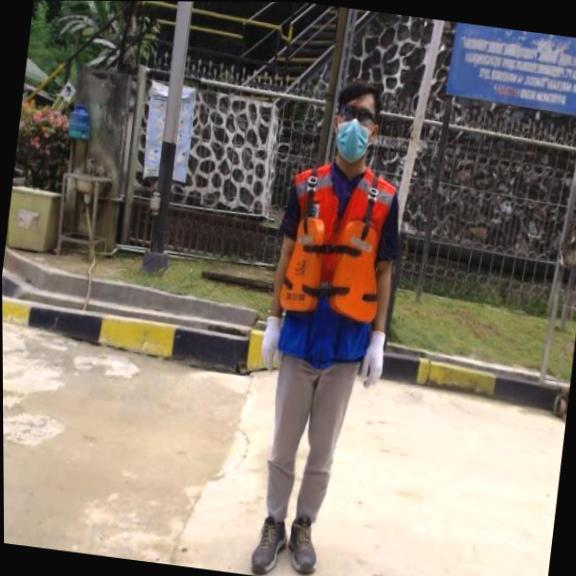safety_vest: (274, 211, 388, 325)
